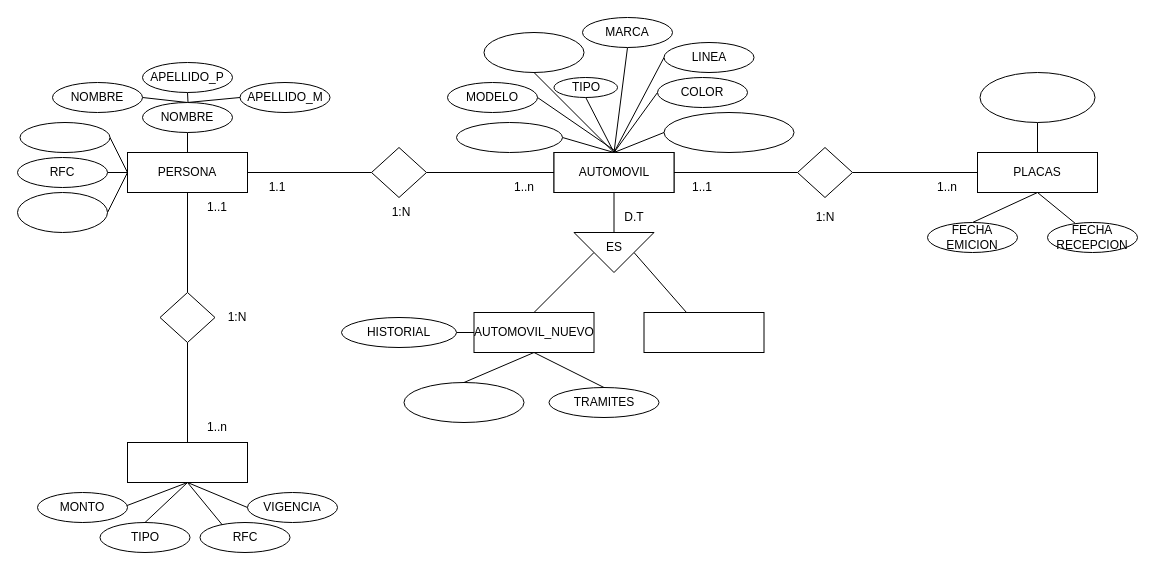
This 1155x571 diagram has some shape labels left out. The shapes that lost their labels are listed below. From the top down, each one's centre as x and y in pixels, then its label:
At pixel 533 52: "NUMERO DE SERIE".
At pixel 1037 97: "NUMERO ALFANUMERICO".
At pixel 64 137: "TELEFONO".
At pixel 509 137: "TIPO_AUTO".
At pixel 728 132: "LICENCIA_VIGENTE".
At pixel 398 172: "Tiene".
At pixel 824 172: "Pertenece".
At pixel 62 212: "FECHA DE NACIMINETO".
At pixel 187 317: "Posee".
At pixel 703 332: "AUTOMOVIL_USADO".
At pixel 463 402: "NUMERO_PLACAS".
At pixel 187 462: "LICENCIA".
